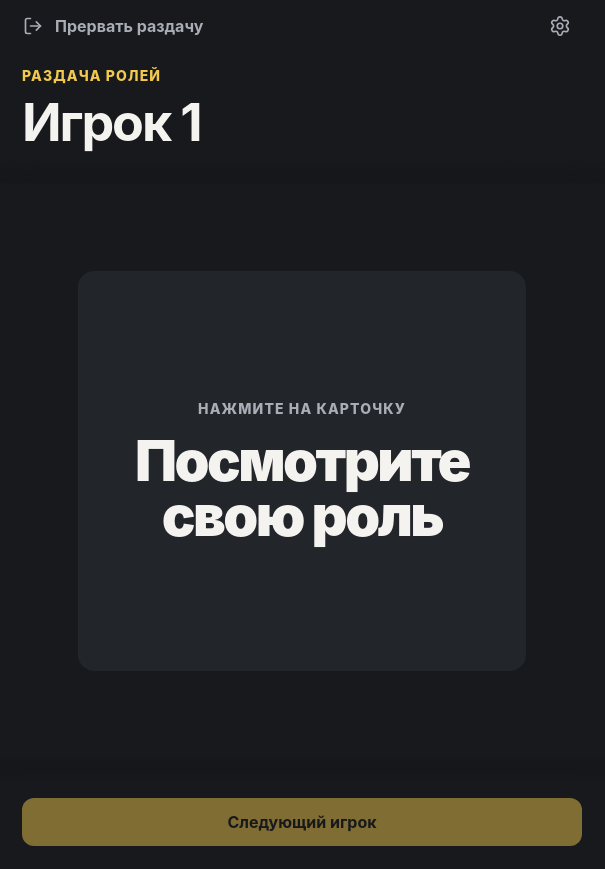
RoleDealScreen › removes the flip delay when reduced motion is requested
Click the button "Нажмите на карточку Посмотрите свою роль" at (302, 471), box [78, 271, 526, 671]
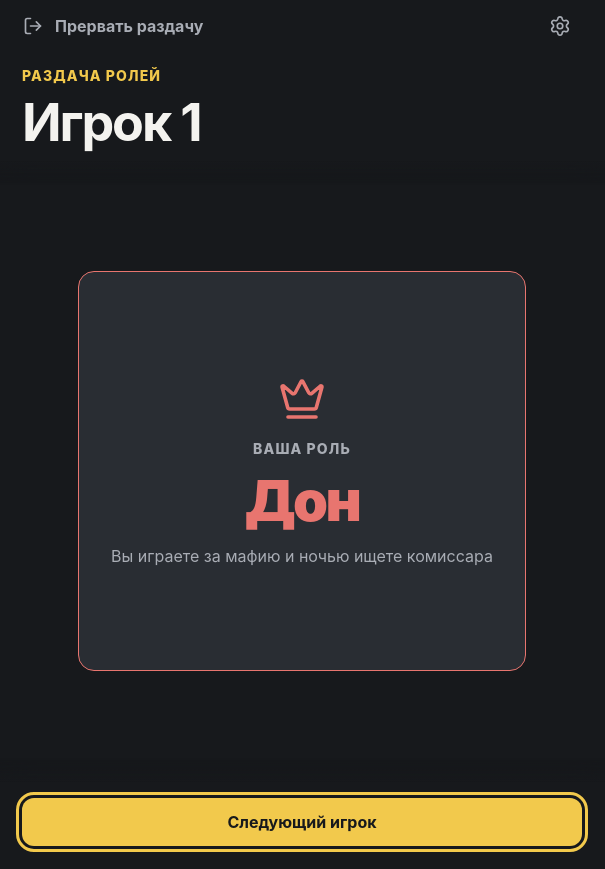
Check: the button "Следующий игрок" is enabled, box [22, 798, 582, 846]
